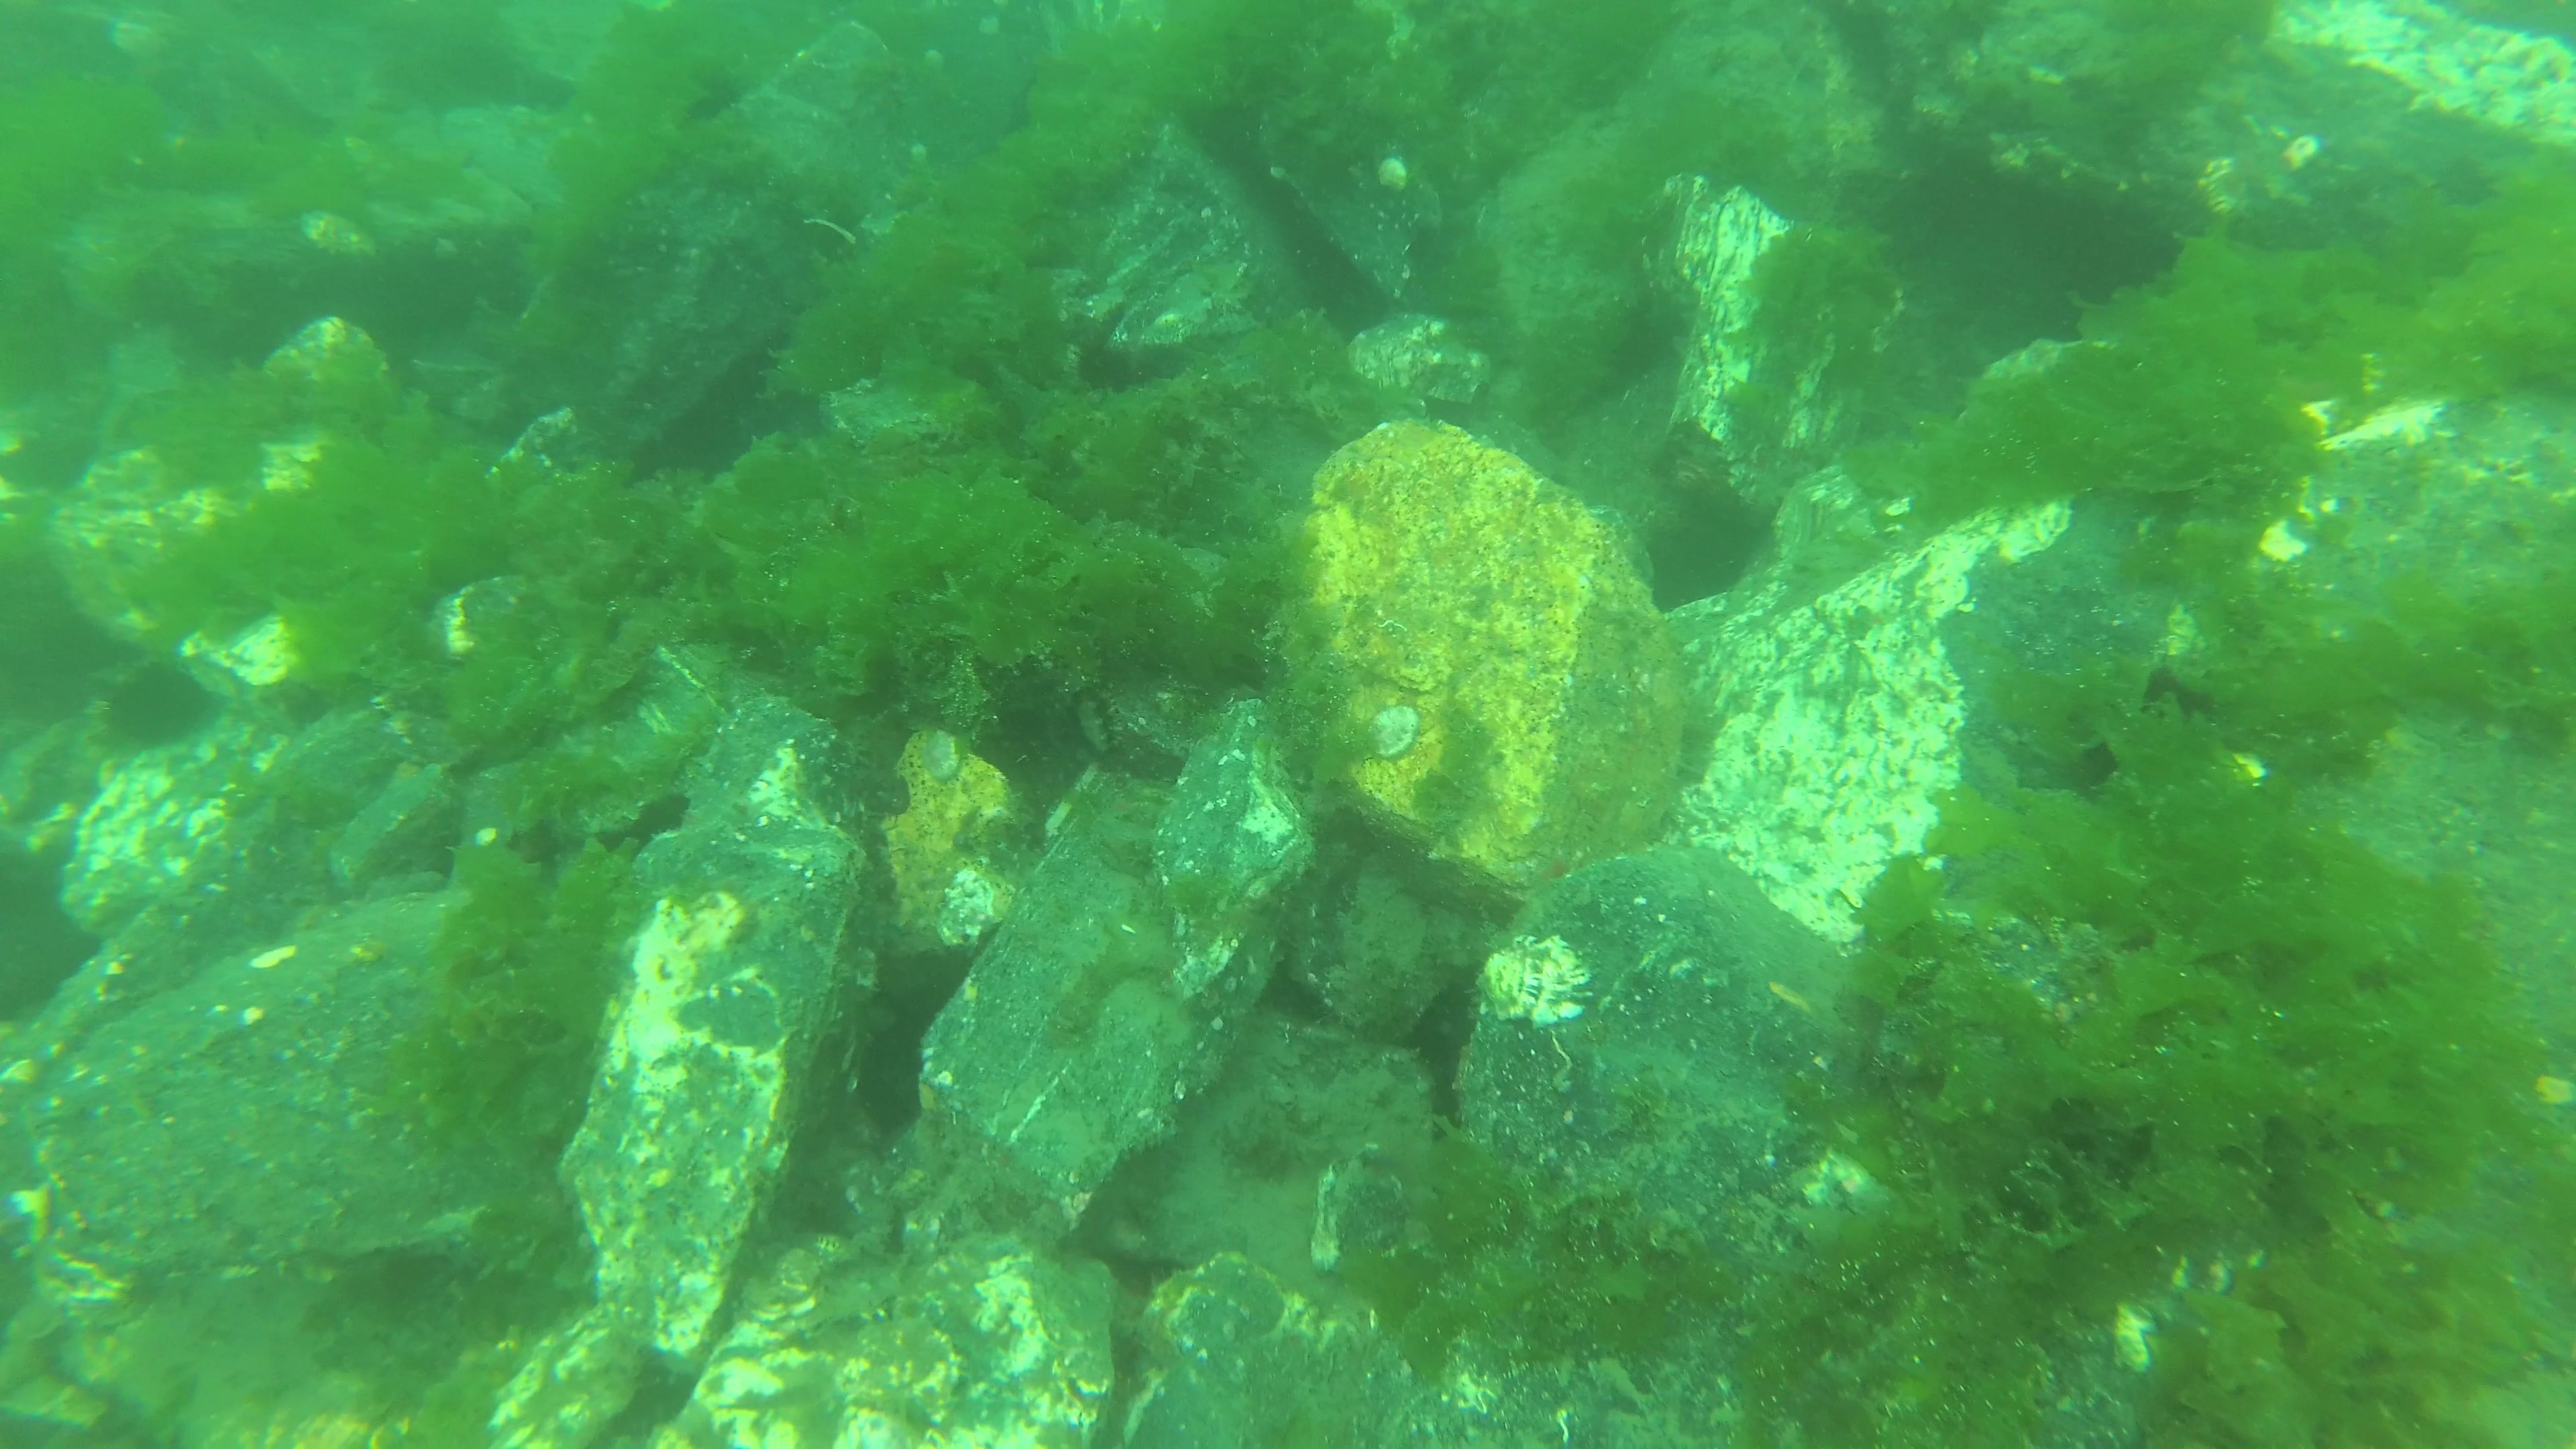echinus: (103, 672, 200, 752), (2143, 663, 2213, 731), (1063, 336, 1131, 400)
